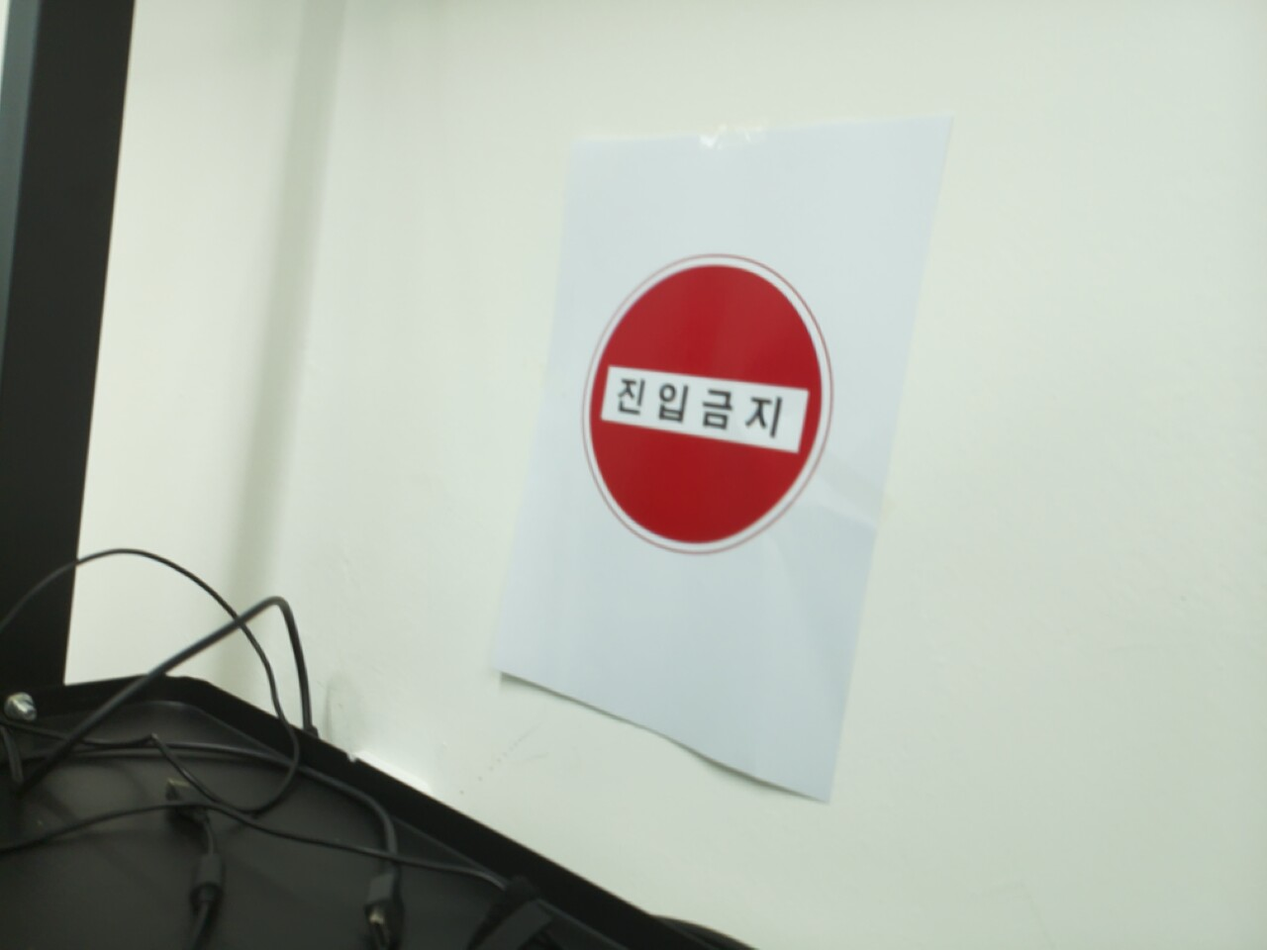do_not_enter: (581, 255, 830, 553)
